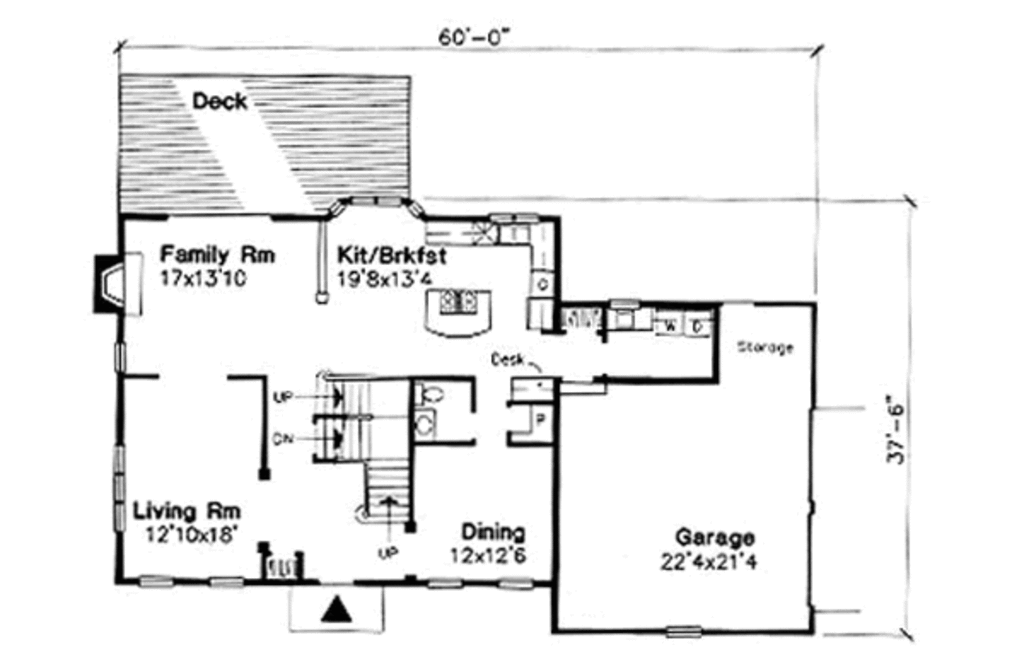kitchen_bar: (424, 286, 492, 340)
large_sink: (412, 382, 446, 407)
small_sink: (409, 407, 442, 446)
stairs: (309, 374, 417, 526)
windows: (326, 194, 419, 221), (109, 441, 127, 535), (488, 211, 544, 226), (659, 619, 697, 640), (135, 574, 173, 594), (495, 575, 535, 592), (112, 337, 129, 377), (208, 577, 249, 592), (415, 579, 461, 592)
